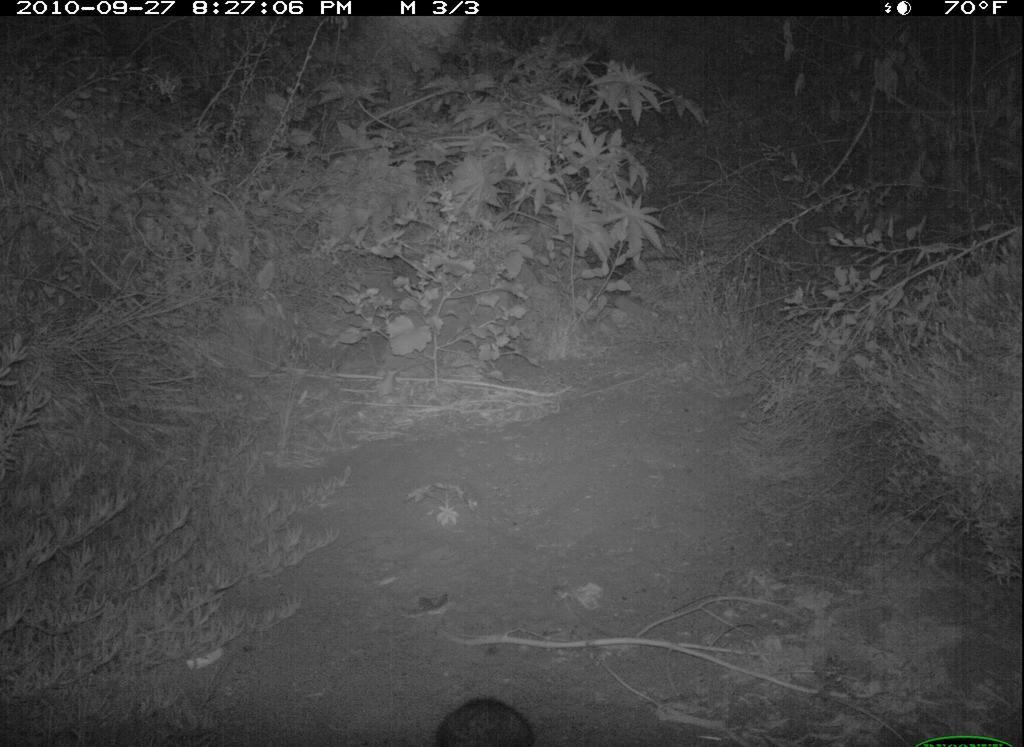raccoon: (420, 679, 555, 747)
